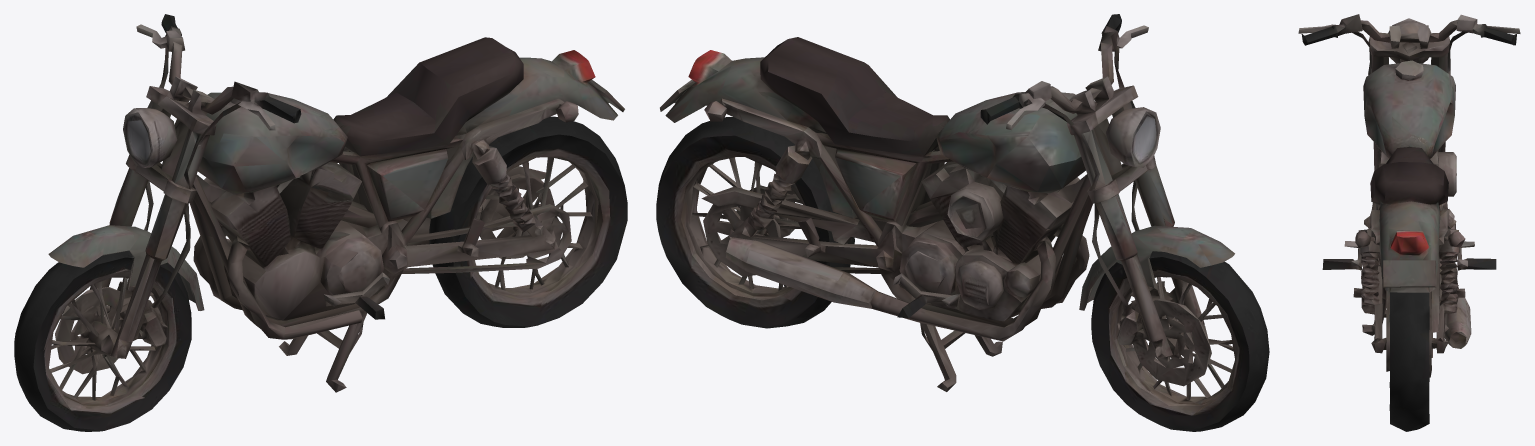
Rendered from motorcycle_b_idle.glb.
3 renders of one model, left to right at view 1: azimuth 30°, elevation 25°; view 2: azimuth 150°, elevation 25°; view 3: azimuth 270°, elevation 25°, orthographic. The views are drawn at different scales.
Parts seen in each view (by area): view 1: tripo_node_21bfa960-732d-4fdc-b99b-a8c98344ef5e; view 2: tripo_node_21bfa960-732d-4fdc-b99b-a8c98344ef5e; view 3: tripo_node_21bfa960-732d-4fdc-b99b-a8c98344ef5e.
Boxes of the visible parts, <box> form: tripo_node_21bfa960-732d-4fdc-b99b-a8c98344ef5e: <box>14,14,627,431</box>; tripo_node_21bfa960-732d-4fdc-b99b-a8c98344ef5e: <box>656,14,1269,431</box>; tripo_node_21bfa960-732d-4fdc-b99b-a8c98344ef5e: <box>1298,14,1520,431</box>.
Bounding box in the file's own units: 2.1 × 1.14 × 0.8161.
Materials: 1 (1 with a texture image).
